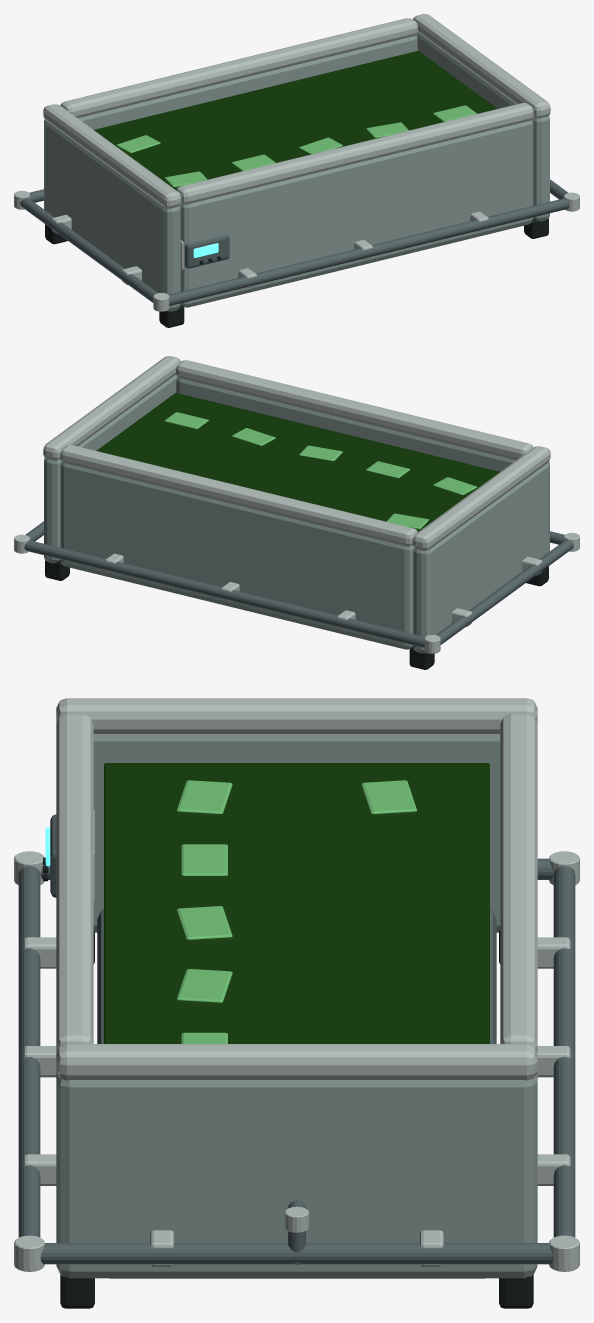
Rendered from 20_medium_aerated_algae_vat.glb.
3 views of the same model, one above another, from view 1: azimuth 30°, elevation 25°; view 2: azimuth 150°, elevation 25°; view 3: azimuth 270°, elevation 25° (orthographic). The views are drawn at different scales.
Parts seen in each view (by area): view 1: 20_medium_aerated_algae_vat_Vat_Wall_Front, 20_medium_aerated_algae_vat_Water_Surface, 20_medium_aerated_algae_vat_Vat_Wall_Left, 20_medium_aerated_algae_vat_Reinforced_Rim_Front, 20_medium_aerated_algae_vat_Reinforced_Rim_Rear, 20_medium_aerated_algae_vat_Vat_Wall_Rear, 20_medium_aerated_algae_vat_Perimeter_Front, 20_medium_aerated_algae_vat_Reinforced_Rim_Left, 20_medium_aerated_algae_vat_Reinforced_Rim_Right, 20_medium_aerated_algae_vat_Vat_Wall_Right, 20_medium_aerated_algae_vat_Perimeter_Left, 20_medium_aerated_algae_vat_Control_Housing (+7 smaller); view 2: 20_medium_aerated_algae_vat_Vat_Wall_Rear, 20_medium_aerated_algae_vat_Water_Surface, 20_medium_aerated_algae_vat_Vat_Wall_Left, 20_medium_aerated_algae_vat_Reinforced_Rim_Rear, 20_medium_aerated_algae_vat_Reinforced_Rim_Front, 20_medium_aerated_algae_vat_Vat_Wall_Front, 20_medium_aerated_algae_vat_Perimeter_Rear, 20_medium_aerated_algae_vat_Reinforced_Rim_Left, 20_medium_aerated_algae_vat_Reinforced_Rim_Right, 20_medium_aerated_algae_vat_Vat_Wall_Right, 20_medium_aerated_algae_vat_Perimeter_Left, 20_medium_aerated_algae_vat_Algae_Mat_1 (+6 smaller); view 3: 20_medium_aerated_algae_vat_Water_Surface, 20_medium_aerated_algae_vat_Vat_Wall_Right, 20_medium_aerated_algae_vat_Reinforced_Rim_Right, 20_medium_aerated_algae_vat_Reinforced_Rim_Left, 20_medium_aerated_algae_vat_Vat_Wall_Left, 20_medium_aerated_algae_vat_Reinforced_Rim_Front, 20_medium_aerated_algae_vat_Reinforced_Rim_Rear, 20_medium_aerated_algae_vat_Perimeter_Right, 20_medium_aerated_algae_vat_Perimeter_Front, 20_medium_aerated_algae_vat_Perimeter_Rear, 20_medium_aerated_algae_vat_Inset_Floor, 20_medium_aerated_algae_vat_Algae_Mat_3 (+12 smaller).
Boxes of the visible parts, bbox=[...] form: 20_medium_aerated_algae_vat_Vat_Wall_Front: bbox=[180, 120, 533, 307]; 20_medium_aerated_algae_vat_Water_Surface: bbox=[94, 51, 497, 189]; 20_medium_aerated_algae_vat_Vat_Wall_Left: bbox=[44, 120, 180, 311]; 20_medium_aerated_algae_vat_Reinforced_Rim_Front: bbox=[176, 103, 533, 204]; 20_medium_aerated_algae_vat_Reinforced_Rim_Rear: bbox=[60, 18, 417, 117]; 20_medium_aerated_algae_vat_Vat_Wall_Rear: bbox=[78, 35, 417, 129]; 20_medium_aerated_algae_vat_Perimeter_Front: bbox=[169, 198, 569, 305]; 20_medium_aerated_algae_vat_Reinforced_Rim_Left: bbox=[43, 104, 181, 208]; 20_medium_aerated_algae_vat_Reinforced_Rim_Right: bbox=[413, 14, 550, 118]; 20_medium_aerated_algae_vat_Vat_Wall_Right: bbox=[416, 33, 549, 221]; 20_medium_aerated_algae_vat_Perimeter_Left: bbox=[20, 198, 157, 302]; 20_medium_aerated_algae_vat_Control_Housing: bbox=[185, 234, 229, 268]; 20_medium_aerated_algae_vat_Vat_Wall_Rear: bbox=[60, 462, 413, 649]; 20_medium_aerated_algae_vat_Water_Surface: bbox=[96, 393, 499, 531]; 20_medium_aerated_algae_vat_Vat_Wall_Left: bbox=[413, 462, 549, 653]; 20_medium_aerated_algae_vat_Reinforced_Rim_Rear: bbox=[60, 445, 417, 546]; 20_medium_aerated_algae_vat_Reinforced_Rim_Front: bbox=[176, 360, 533, 459]; 20_medium_aerated_algae_vat_Vat_Wall_Front: bbox=[176, 377, 515, 471]; 20_medium_aerated_algae_vat_Perimeter_Rear: bbox=[24, 540, 424, 647]; 20_medium_aerated_algae_vat_Reinforced_Rim_Left: bbox=[412, 446, 550, 550]; 20_medium_aerated_algae_vat_Reinforced_Rim_Right: bbox=[43, 356, 180, 460]; 20_medium_aerated_algae_vat_Vat_Wall_Right: bbox=[44, 375, 177, 563]; 20_medium_aerated_algae_vat_Perimeter_Left: bbox=[436, 540, 573, 644]; 20_medium_aerated_algae_vat_Algae_Mat_1: bbox=[433, 477, 477, 494]; 20_medium_aerated_algae_vat_Water_Surface: bbox=[104, 763, 489, 1043]; 20_medium_aerated_algae_vat_Vat_Wall_Right: bbox=[56, 1074, 537, 1278]; 20_medium_aerated_algae_vat_Reinforced_Rim_Right: bbox=[56, 1044, 537, 1080]; 20_medium_aerated_algae_vat_Reinforced_Rim_Left: bbox=[56, 698, 537, 733]; 20_medium_aerated_algae_vat_Vat_Wall_Left: bbox=[93, 734, 500, 932]; 20_medium_aerated_algae_vat_Reinforced_Rim_Front: bbox=[56, 714, 93, 1053]; 20_medium_aerated_algae_vat_Reinforced_Rim_Rear: bbox=[500, 714, 537, 1053]; 20_medium_aerated_algae_vat_Perimeter_Right: bbox=[40, 1243, 553, 1264]; 20_medium_aerated_algae_vat_Perimeter_Front: bbox=[18, 866, 40, 1237]; 20_medium_aerated_algae_vat_Perimeter_Rear: bbox=[553, 866, 575, 1237]; 20_medium_aerated_algae_vat_Inset_Floor: bbox=[97, 909, 496, 1278]; 20_medium_aerated_algae_vat_Algae_Mat_3: bbox=[177, 906, 232, 939].
Bounding box in the file's own units: 3.52 × 1.06 × 2.12.
